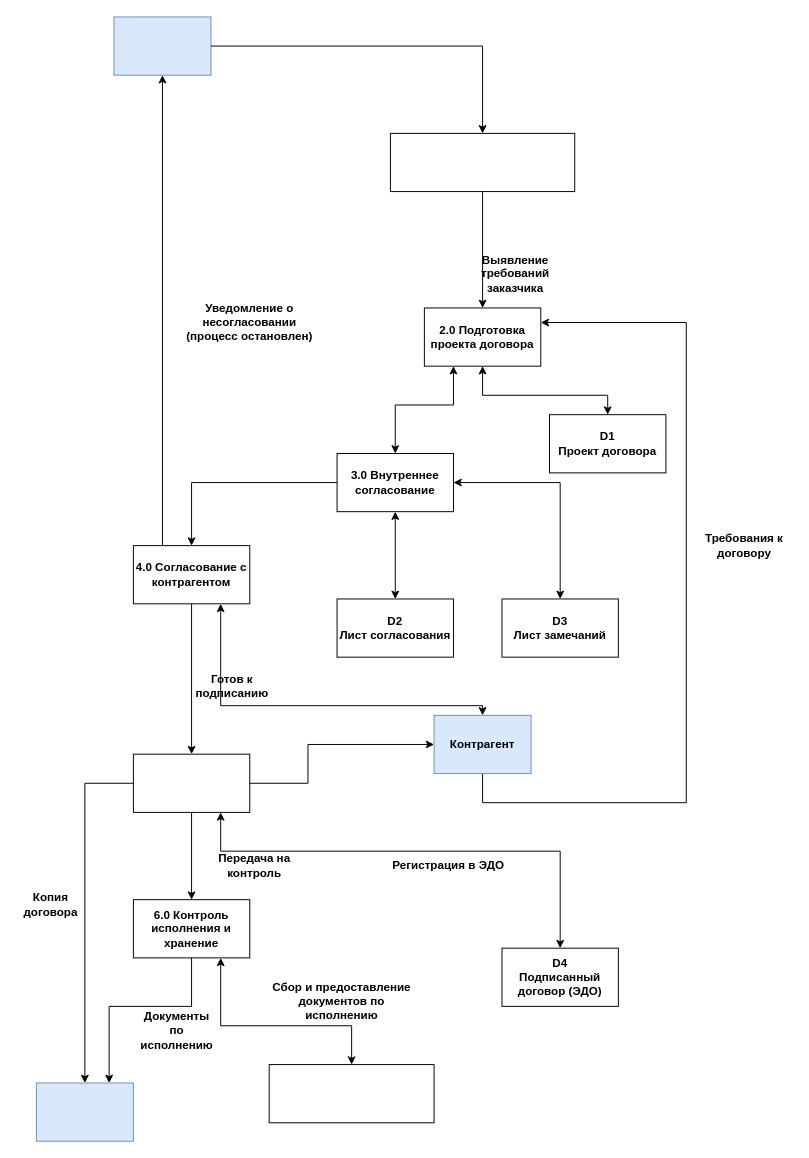
Some shapes in this 809 by 1158 pixel diagram are drawn without their labels. The centre of each missing label's shape, as x and y in pixels:
"1.0 Инициирование и назначение менеджера" belongs at [482,162].
"5.0 Подписание и регистрация" belongs at [191,782].
"D5 Документы по исполнению (акты, СФ)" belongs at [351,1093].
"Главный бухгалтер" belongs at [84,1111].
"Руководитель отдела продаж" belongs at [162,45].
